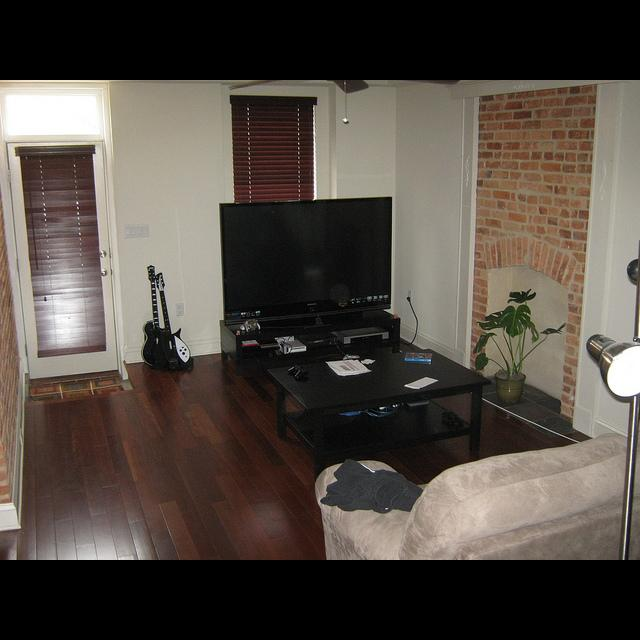Flat-Panel-TV: (218, 198, 396, 324)
